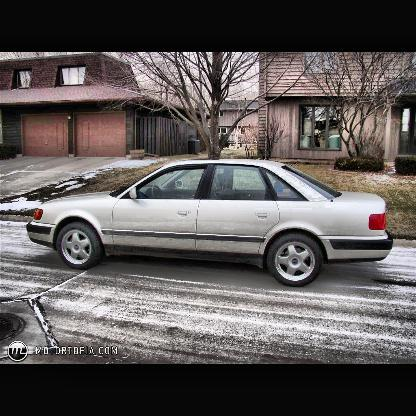Audi 100 Sedan 1994: (26, 159, 396, 291)
